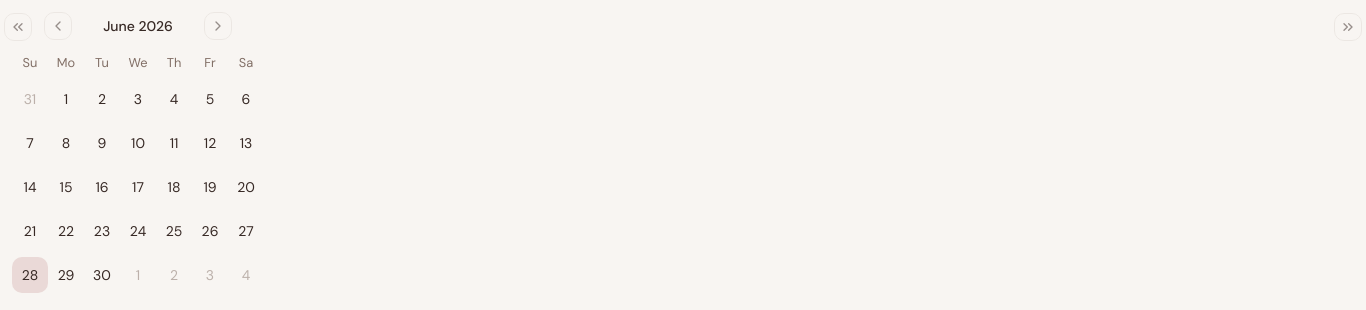
Calendar › navigates forward one year when year-forward button is clicked
Click the button with test id "calendar-year-forward" at (1348, 27), box [1334,13,1362,41]
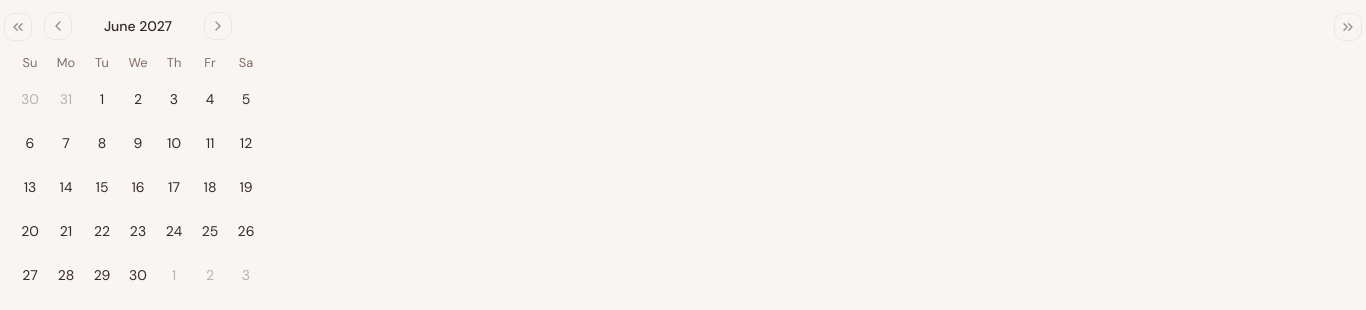
Now the text "June 2027" is shown, box [104,16,172,36]
